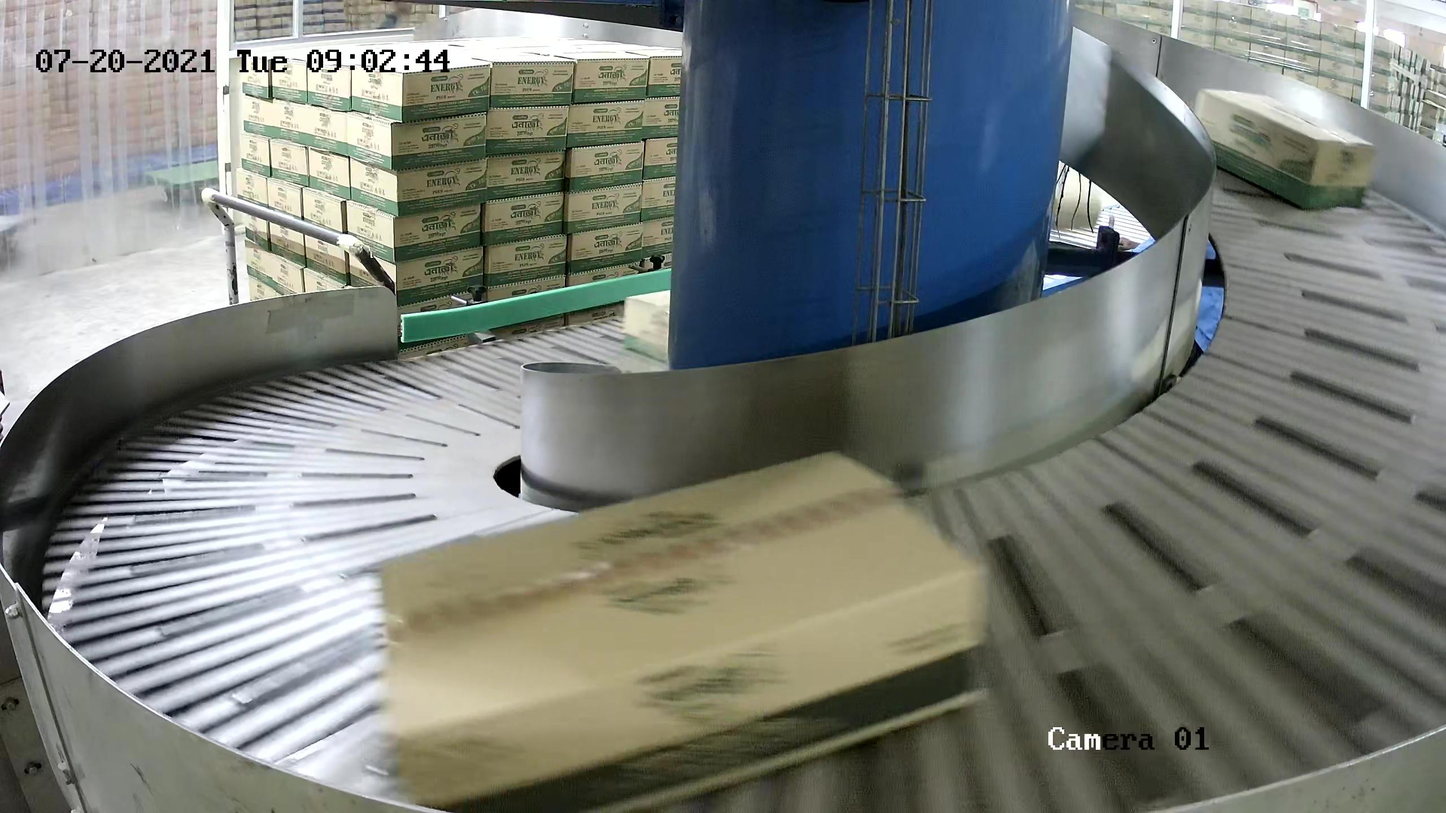Box: (377, 447, 993, 813), (1193, 87, 1377, 210), (622, 289, 670, 362)
